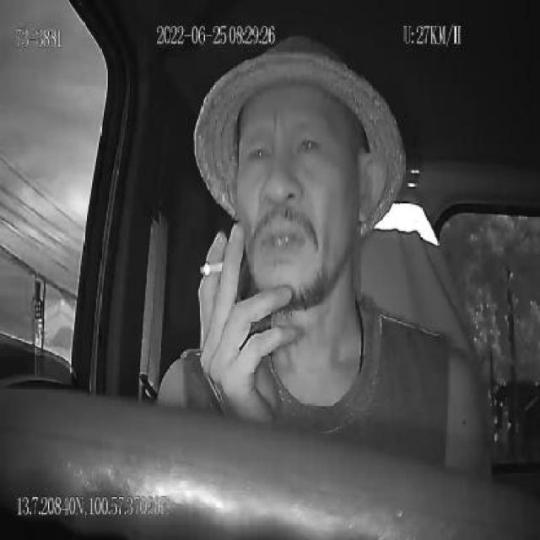smoking: (200, 258, 224, 278)
